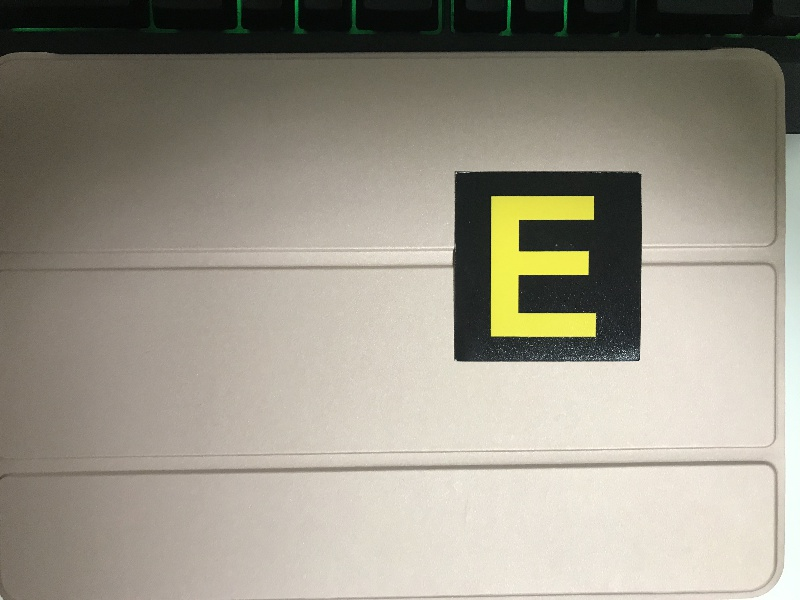E-15: (456, 174, 637, 358)
